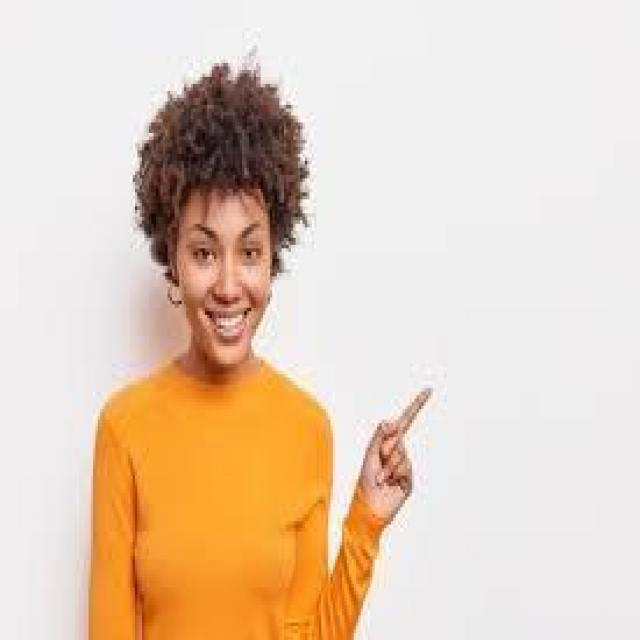person: (51, 45, 426, 633)
